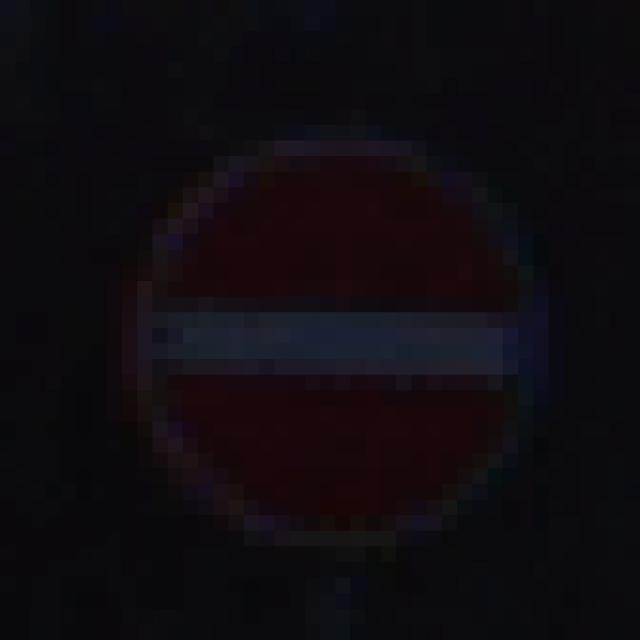No Entry: (92, 79, 565, 563)
